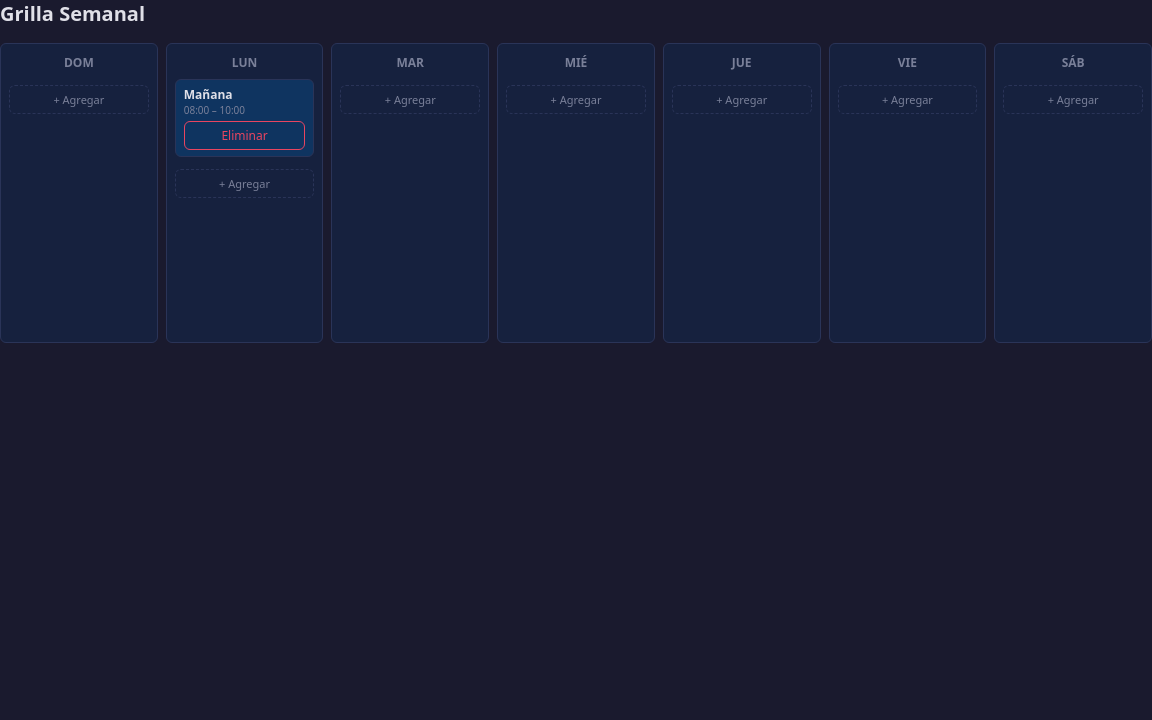
Test: ProgramsPage › opens modal when clicking + Agregar
The image size is (1152, 720).
Click the button "+ Agregar" below "Dom" at (79, 100), box [9,85,149,114]
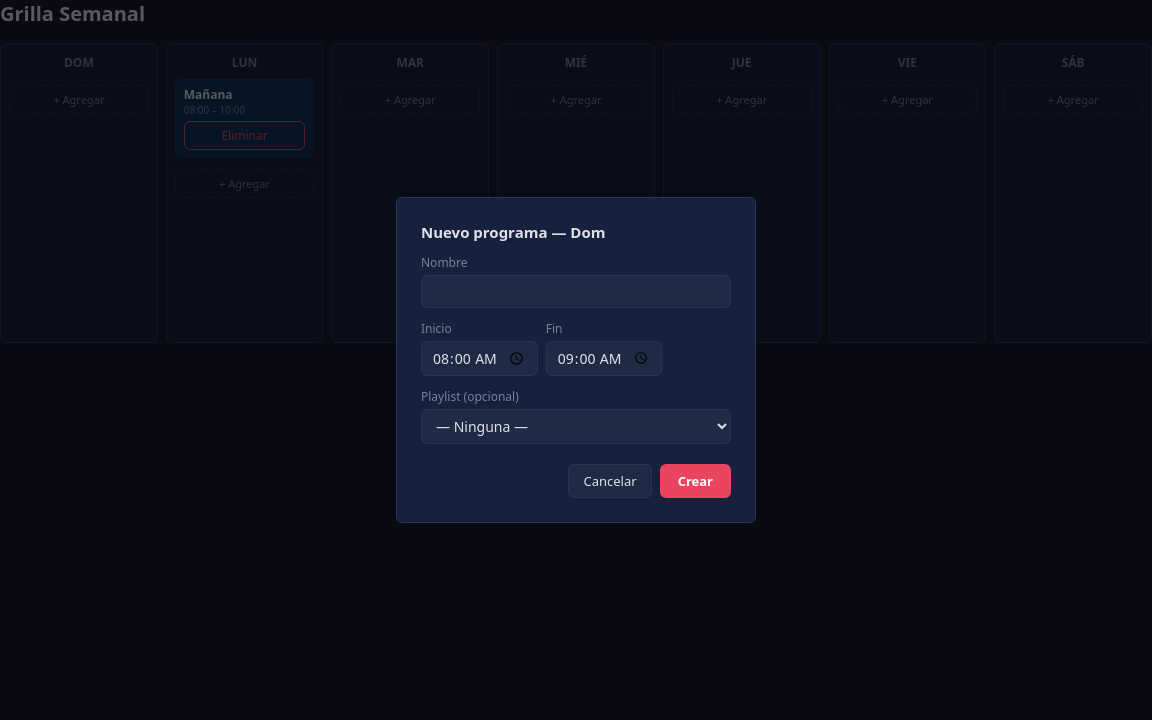
Result: the text "Nuevo programa — Dom" is shown at [421,222,605,242]
